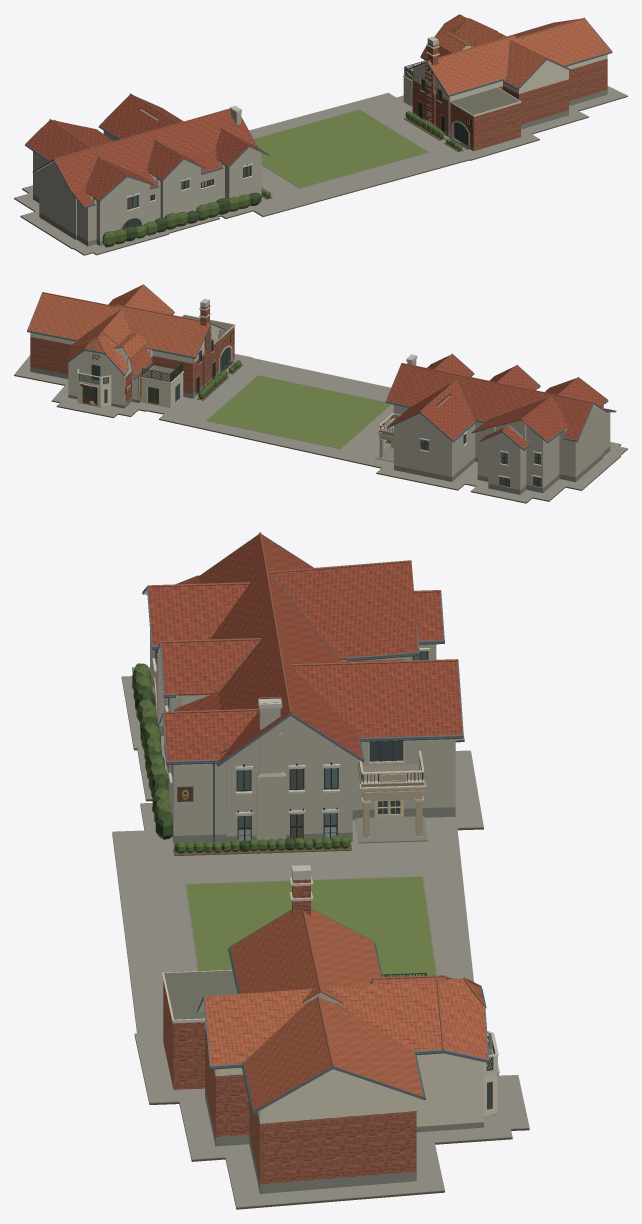
The model's file is changning-hongji-yuyuan-garden-houses-8-and-9-web.glb.
3 renders of one model, top to bottom at view 1: azimuth 30°, elevation 25°; view 2: azimuth 150°, elevation 25°; view 3: azimuth 270°, elevation 25°, orthographic. The views are drawn at different scales.
Visible parts, largest first — view 1: 弘基创意国际园——8、9号楼; view 2: 弘基创意国际园——8、9号楼; view 3: 弘基创意国际园——8、9号楼.
Boxes of the visible parts, bbox=[...] form: 弘基创意国际园——8、9号楼: bbox=[14, 14, 627, 255]; 弘基创意国际园——8、9号楼: bbox=[14, 284, 627, 503]; 弘基创意国际园——8、9号楼: bbox=[112, 532, 529, 1209].
Size of the model in its own units: 74.41 by 10.96 by 23.97.
51 materials, 4 textured.
